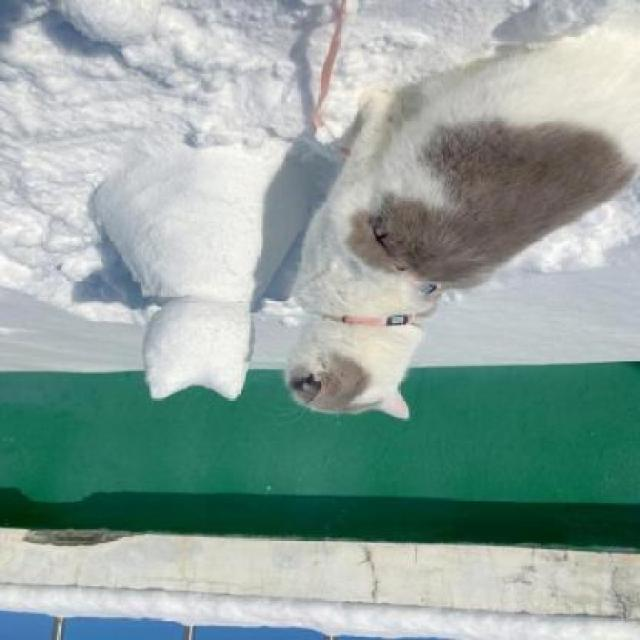cat: (282, 34, 626, 418)
